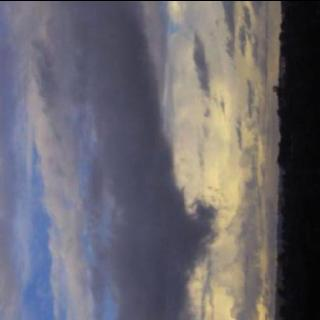Stratocumulus: (0, 0, 275, 320)
